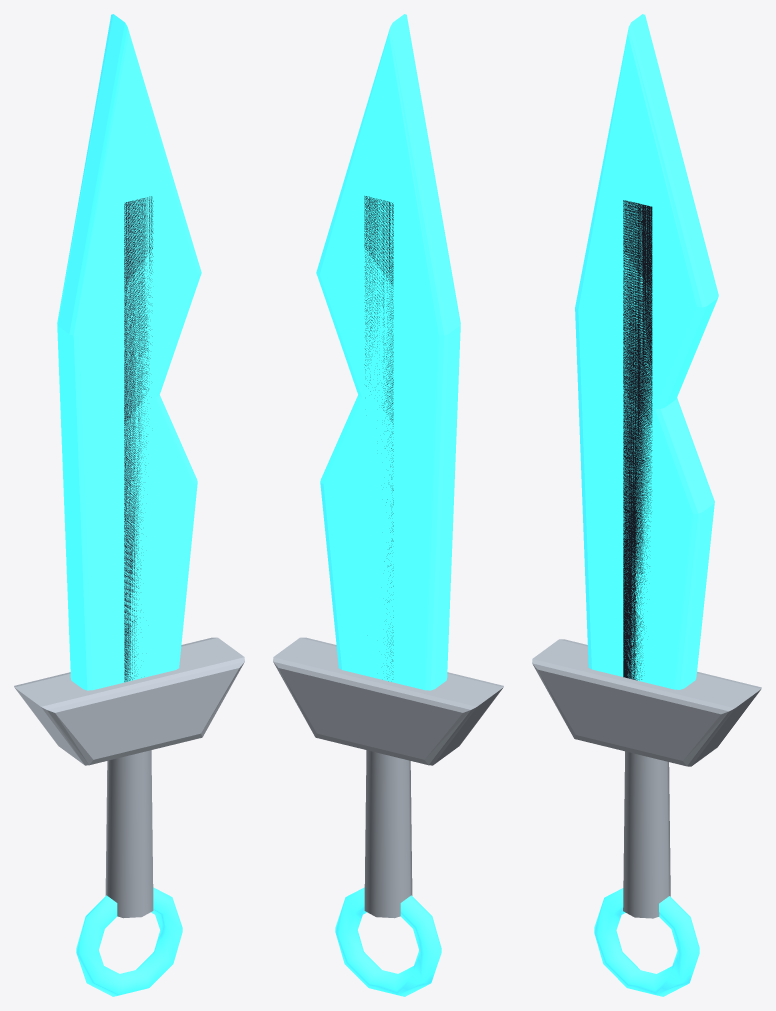
The model's file is weapon_volt.glb.
The picture shows the model from 3 angles, left to right: view 1: azimuth 30°, elevation 25°; view 2: azimuth 150°, elevation 25°; view 3: azimuth 330°, elevation 25°; orthographic projection.
Parts seen in each view (by area): view 1: LightningFangBlade, DaggerGuard, DaggerSpine, DaggerGrip, RingPommel; view 2: LightningFangBlade, DaggerGuard, DaggerGrip, RingPommel, DaggerSpine; view 3: LightningFangBlade, DaggerGuard, DaggerSpine, DaggerGrip, RingPommel.
Part boxes in pixels (x1=…): LightningFangBlade: x1=57, y1=14, x2=201, y2=690; DaggerGuard: x1=14, y1=637, x2=244, y2=765; DaggerSpine: x1=124, y1=196, x2=153, y2=681; DaggerGrip: x1=105, y1=750, x2=153, y2=918; RingPommel: x1=76, y1=887, x2=182, y2=996; LightningFangBlade: x1=316, y1=14, x2=460, y2=690; DaggerGuard: x1=273, y1=637, x2=503, y2=765; DaggerGrip: x1=364, y1=750, x2=412, y2=918; RingPommel: x1=335, y1=887, x2=441, y2=996; DaggerSpine: x1=364, y1=196, x2=393, y2=679; LightningFangBlade: x1=575, y1=14, x2=718, y2=689; DaggerGuard: x1=532, y1=639, x2=761, y2=766; DaggerSpine: x1=623, y1=200, x2=652, y2=680; DaggerGrip: x1=623, y1=751, x2=670, y2=918; RingPommel: x1=594, y1=888, x2=699, y2=996.
Size of the model in its own units: 0.2651 by 1.22 by 0.08.
